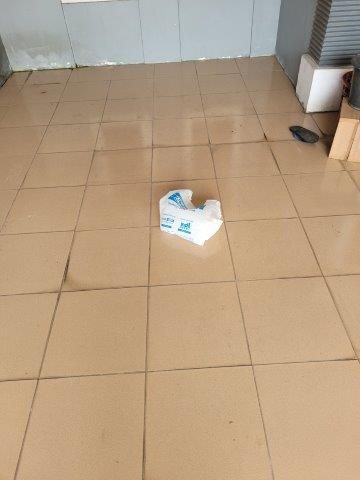plastik: (156, 187, 226, 247)
